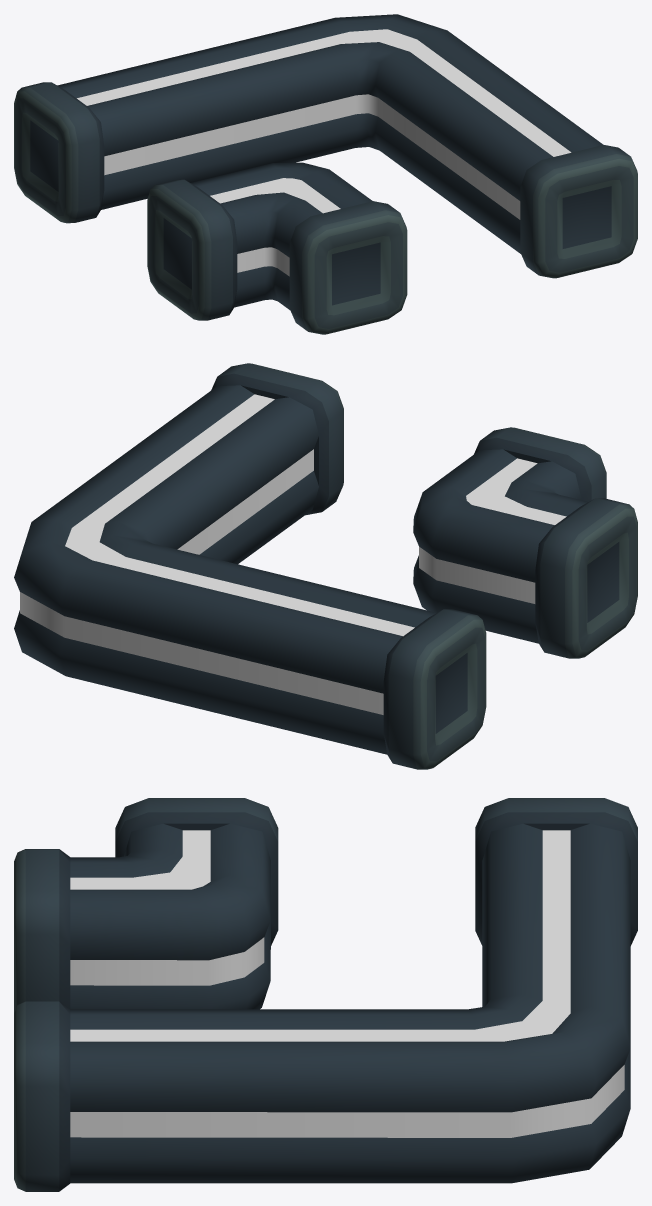
File: Track_Horizontal_L.fbx
3 renders of one model, top to bottom at view 1: azimuth 30°, elevation 25°; view 2: azimuth 150°, elevation 25°; view 3: azimuth 270°, elevation 25°, orthographic. The views are drawn at different scales.
Visible parts, largest first — view 1: Track_Horizontal_L_LOD0; view 2: Track_Horizontal_L_LOD0; view 3: Track_Horizontal_L_LOD0.
Part boxes in pixels (x1,y1,x2,y2): Track_Horizontal_L_LOD0: (14,14,637,334); Track_Horizontal_L_LOD0: (14,363,637,769); Track_Horizontal_L_LOD0: (14,798,637,1191).
Size of what is drawn, in the model's own units: 0.8672 by 0.2263 by 0.8672.
